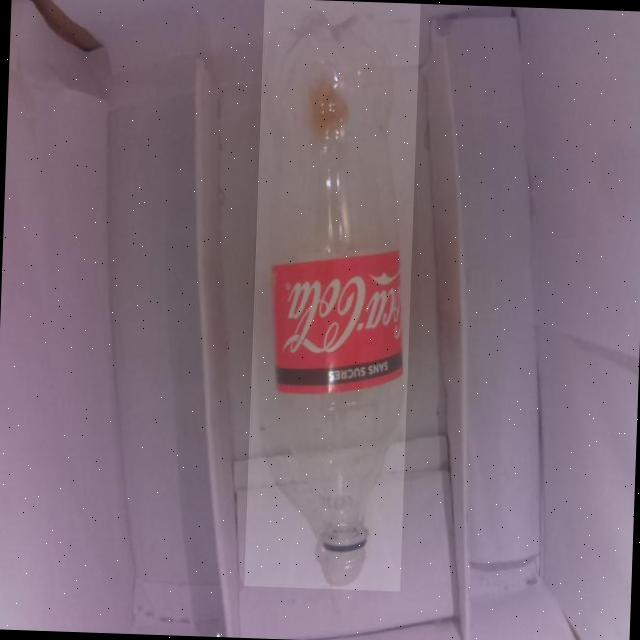bottle: (244, 0, 420, 591)
label: (251, 248, 409, 388)
